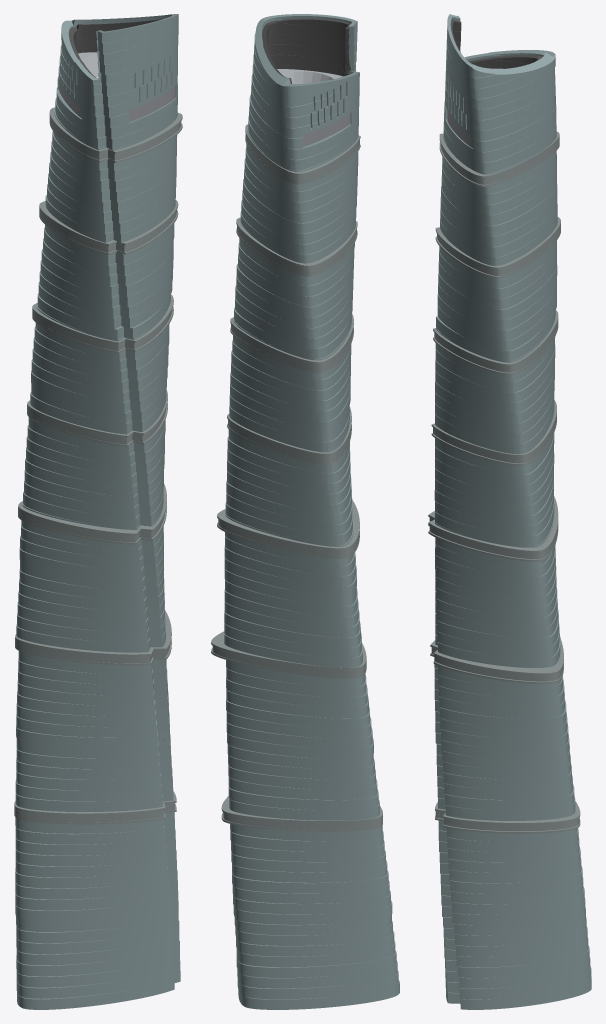
File: landmark-shanghai.glb
3 views of the same model, side by side, from view 1: azimuth 30°, elevation 25°; view 2: azimuth 150°, elevation 25°; view 3: azimuth 270°, elevation 25° (orthographic). The views are drawn at different scales.
Visible parts, largest first — view 1: Object_2, Object_8, Object_5, Object_6; view 2: Object_2, Object_8, Object_5, Object_7, Object_6; view 3: Object_2, Object_8, Object_5.
Boxes of the visible parts, box(x1,y1,x2,y2) form: Object_2: box(15, 14, 180, 1009); Object_8: box(14, 107, 182, 824); Object_5: box(68, 19, 164, 740); Object_6: box(59, 81, 175, 121); Object_2: box(224, 14, 399, 1009); Object_8: box(211, 124, 382, 831); Object_5: box(262, 18, 350, 83); Object_7: box(277, 69, 342, 111); Object_6: box(302, 113, 350, 146); Object_2: box(434, 14, 591, 1009); Object_8: box(428, 131, 580, 833); Object_5: box(450, 19, 542, 68).
Bounding box in the file's own units: 0.1735 × 1 × 0.1552.
